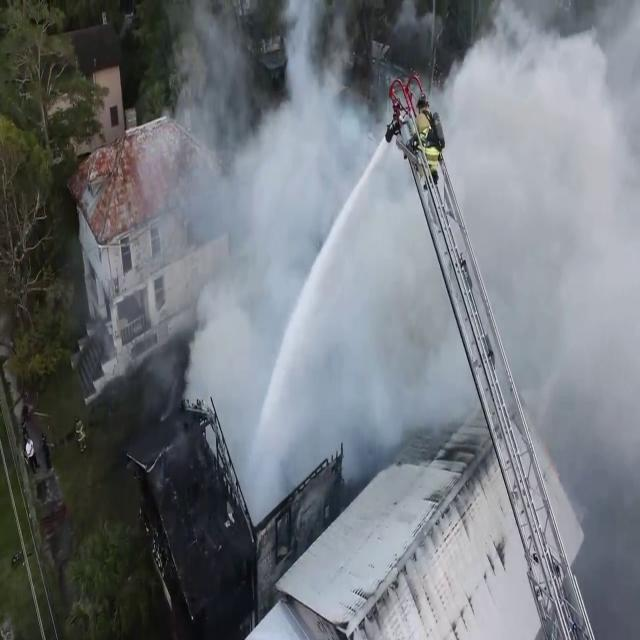Smoke: (205, 261, 348, 538)
